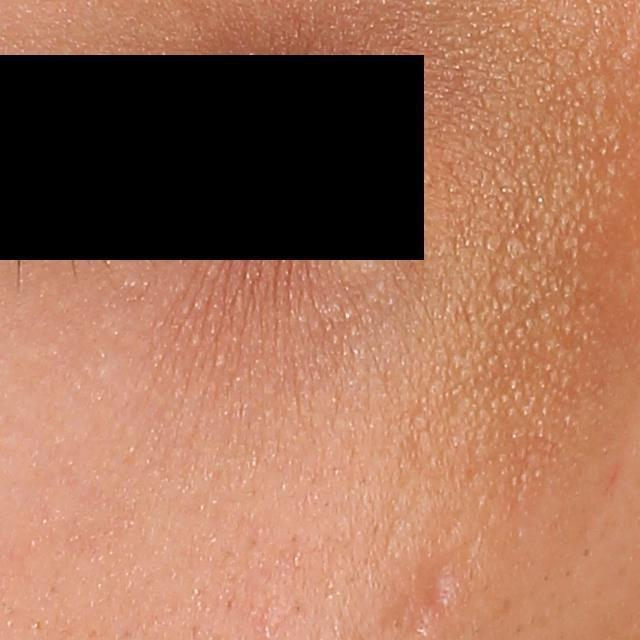comedo: (489, 272, 516, 295)
papule: (415, 561, 462, 614)
